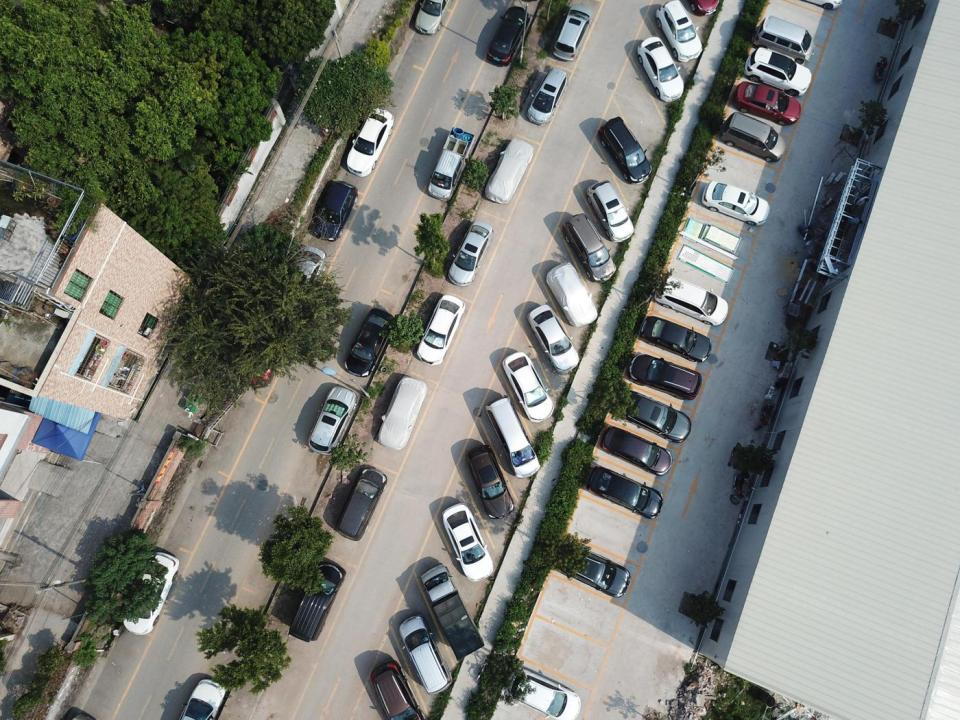car: (122, 551, 180, 636), (500, 666, 581, 720), (554, 542, 631, 598), (586, 465, 663, 520), (441, 502, 494, 581), (614, 391, 691, 443), (654, 274, 728, 326), (464, 444, 515, 519), (501, 351, 554, 422), (377, 376, 427, 451), (600, 425, 672, 476), (527, 304, 580, 373), (599, 116, 652, 184), (416, 294, 466, 366), (628, 352, 702, 400), (344, 308, 395, 377), (639, 315, 712, 363), (545, 260, 598, 326), (308, 386, 357, 456), (744, 47, 812, 96), (346, 108, 394, 177), (701, 180, 770, 226), (485, 138, 533, 204), (636, 37, 684, 102), (447, 221, 494, 287), (586, 180, 635, 243), (733, 81, 801, 126), (655, 0, 702, 62), (311, 180, 358, 241), (486, 5, 530, 66), (285, 245, 328, 304), (552, 3, 594, 61), (527, 67, 567, 126), (242, 332, 282, 390), (178, 678, 227, 720), (415, 0, 452, 35)
truck: (420, 564, 486, 661), (427, 126, 475, 202)
van: (484, 395, 540, 479), (288, 562, 343, 642), (398, 614, 452, 694), (562, 213, 617, 283), (337, 467, 388, 542), (370, 659, 426, 720), (720, 112, 786, 162), (752, 15, 815, 65)
